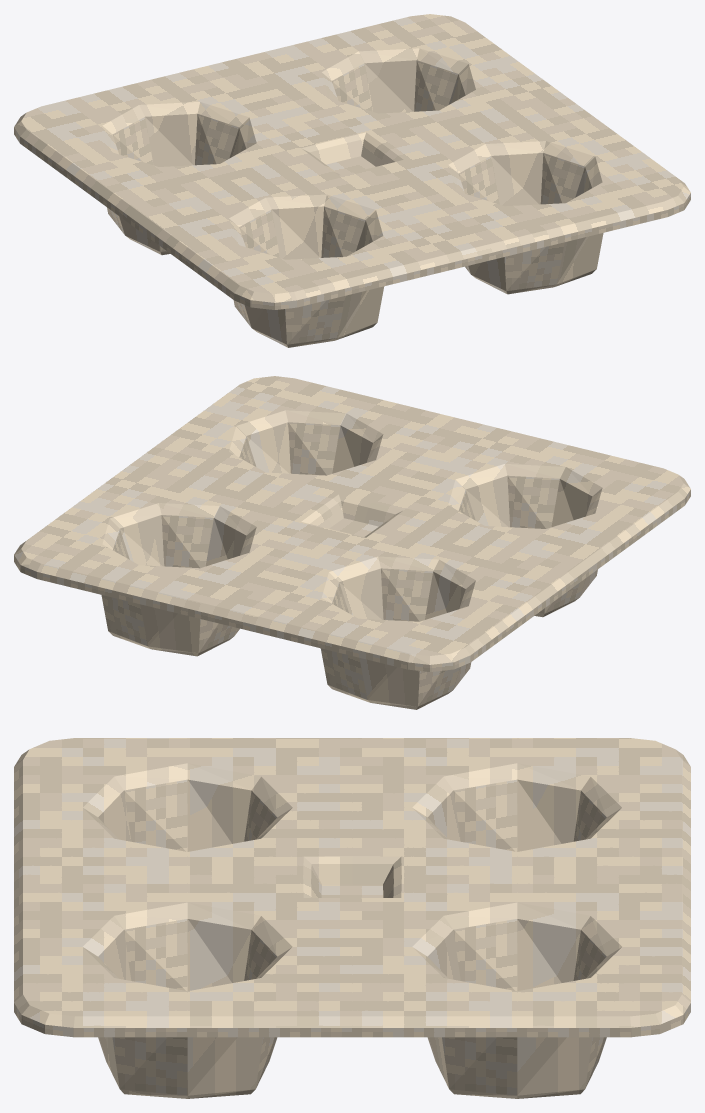
The model's file is cup_holder.fbx.
The picture shows the model from 3 angles, top to bottom: view 1: azimuth 30°, elevation 25°; view 2: azimuth 150°, elevation 25°; view 3: azimuth 270°, elevation 25°; orthographic projection. The views are drawn at different scales.
Visible parts, largest first — view 1: 4_Cup_Holder; view 2: 4_Cup_Holder; view 3: 4_Cup_Holder.
Part boxes in pixels (left/top/right/bottom): 4_Cup_Holder: left=14, top=14, right=690, bottom=347; 4_Cup_Holder: left=14, top=376, right=690, bottom=709; 4_Cup_Holder: left=14, top=738, right=690, bottom=1098.
Bounding box in the file's own units: 307 × 62.59 × 307.
Materials: 1 (1 with a texture image).
